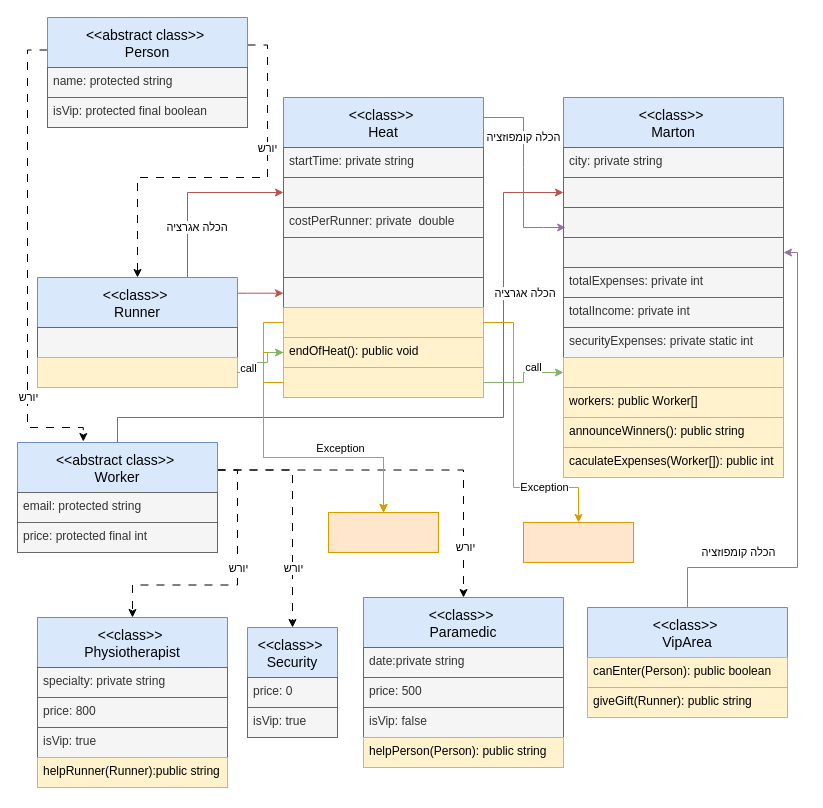
This 823x808 diagram has some shape labels left out. Each missing label, with the centre of its shape:
calculateIncome():public int: point 383,382
getWinner(): public Runner: point 383,322
heats: private Heats[]: point 673,222
If there is a tie: point 578,542
If there is no runners on this heat: point 383,532
lengthInKm: private final enum raceLength = {10, 21,42}: point 383,257
runners : private R unner []: point 383,192
setTime(): public void: point 137,372
totalIncome():public int: point 673,372
totalTimeInSeconds : int: point 137,342
vipArea: private VipArea: point 673,252
winner: private Runner: point 383,292
workers: private Worker[]: point 673,192
